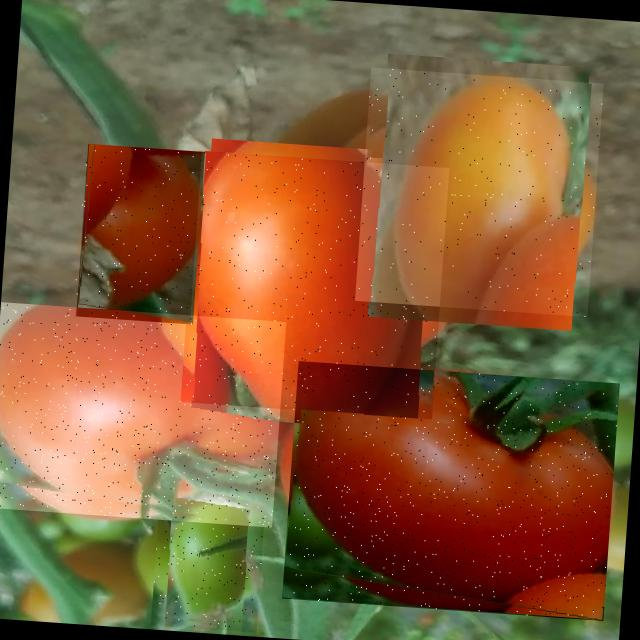Ripe Tomato: (282, 360, 620, 620), (180, 150, 448, 419), (0, 302, 286, 527), (354, 67, 604, 317), (72, 143, 204, 324)
Unripe Tomato: (150, 519, 264, 632)
